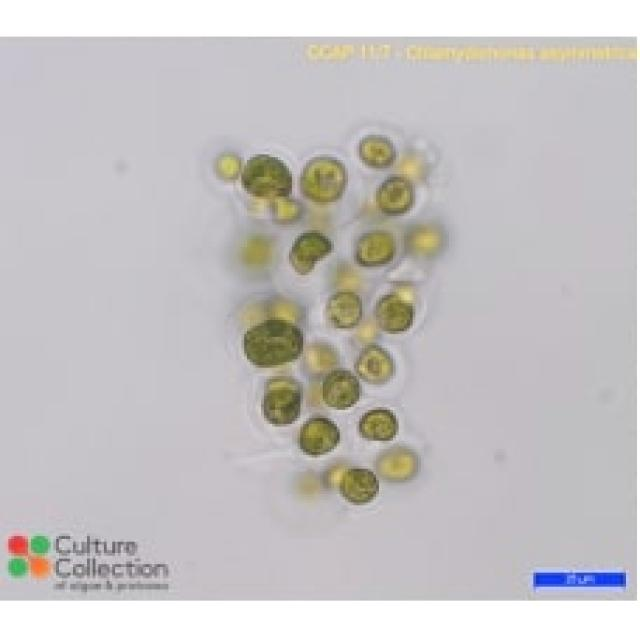Green Algae: (239, 314, 306, 368), (297, 149, 351, 205), (255, 376, 306, 427), (241, 152, 295, 199), (348, 126, 404, 168), (373, 289, 421, 337), (371, 171, 421, 216), (320, 365, 362, 410), (351, 224, 398, 264), (323, 286, 365, 328), (334, 466, 379, 505), (286, 227, 334, 261), (356, 345, 396, 385), (298, 415, 340, 452), (359, 407, 399, 441), (211, 152, 244, 180)
